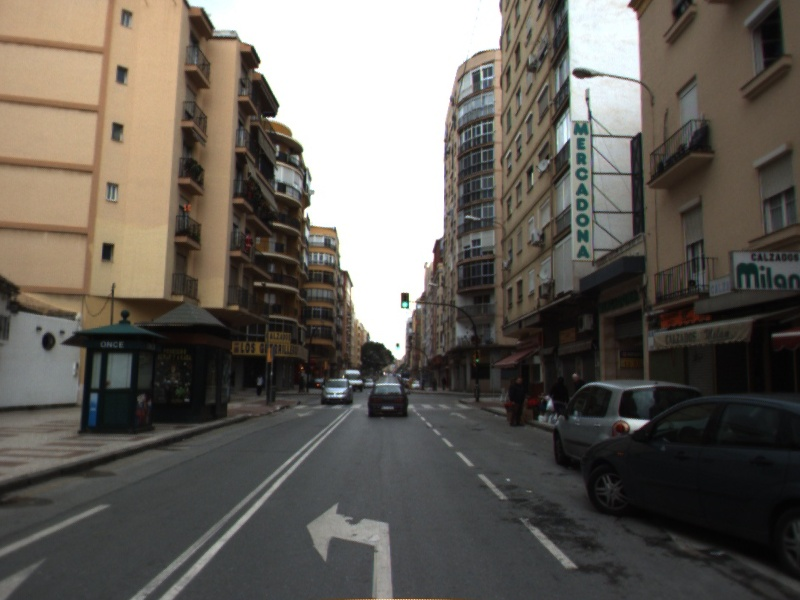LEFT: (304, 500, 395, 600)
STRAIGHT: (448, 410, 468, 421)
